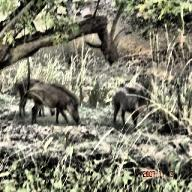boar: (19, 82, 80, 124), (112, 84, 151, 128)
